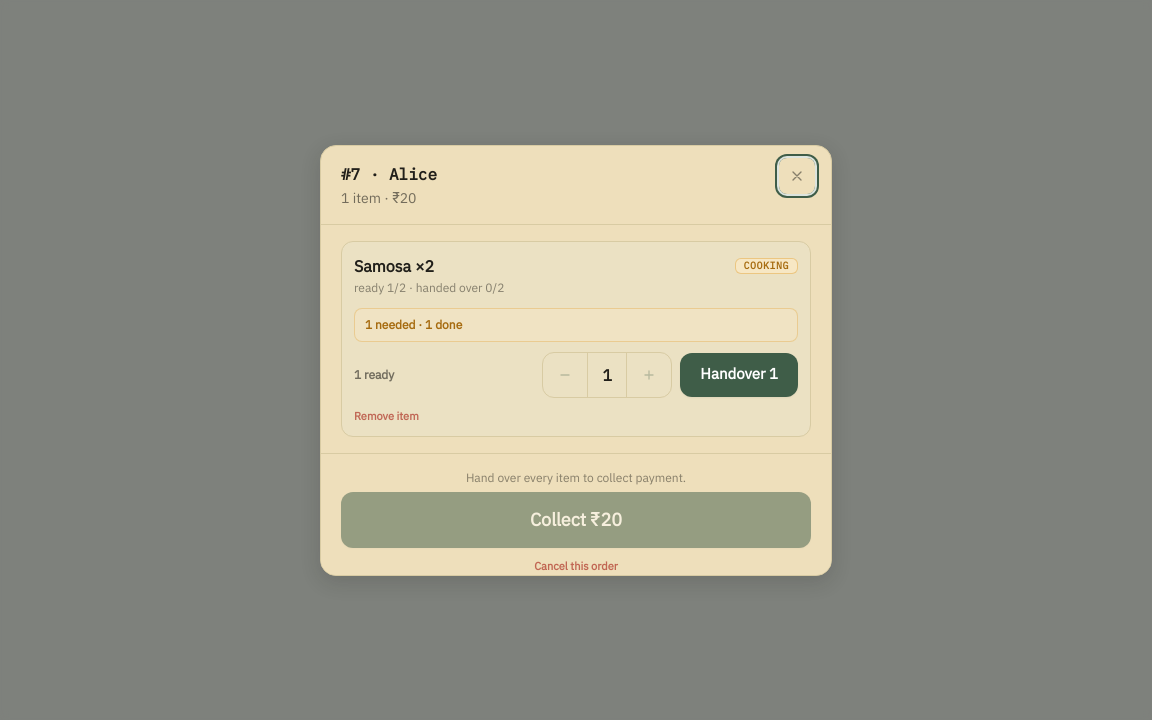
Test: OrderModal remove-item does not flag stock when the removal itself fails (STATUS.md § 9.6 U2) › does not mark the item out of stock when removeOrderItem itself fails
Click the button "Remove item".
click(386, 416)  # box [354,408,419,424]
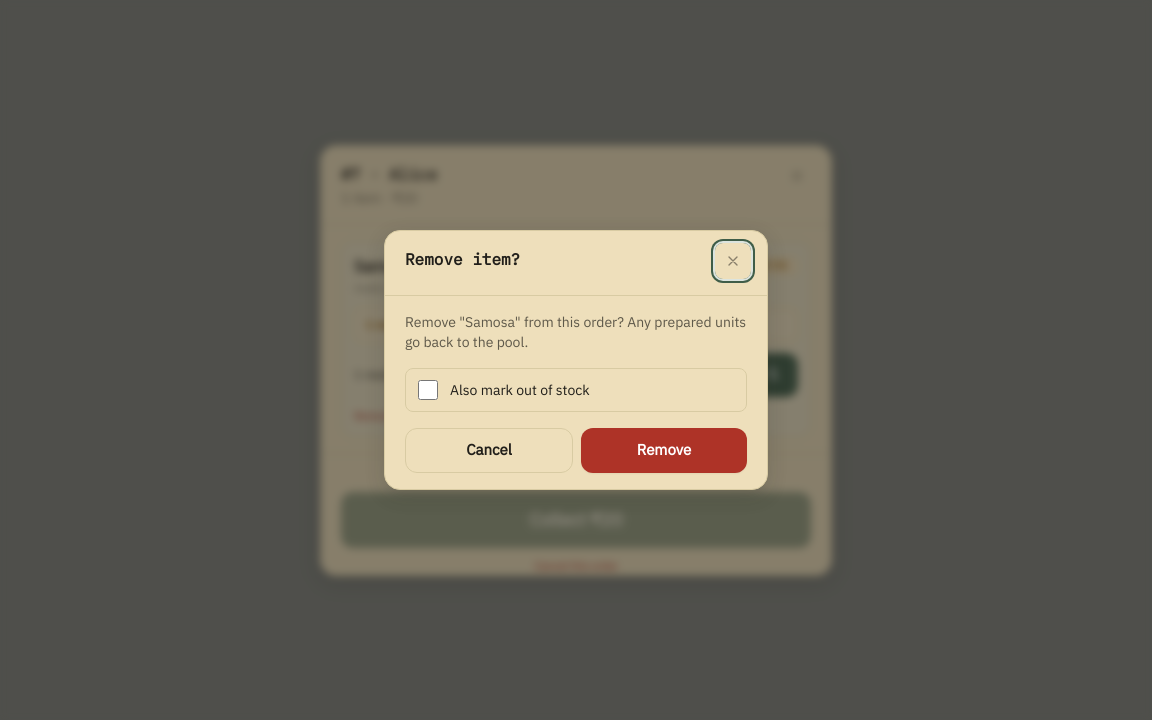
Click the text "Also mark out of stock".
click(520, 390)  # box [450,381,590,399]
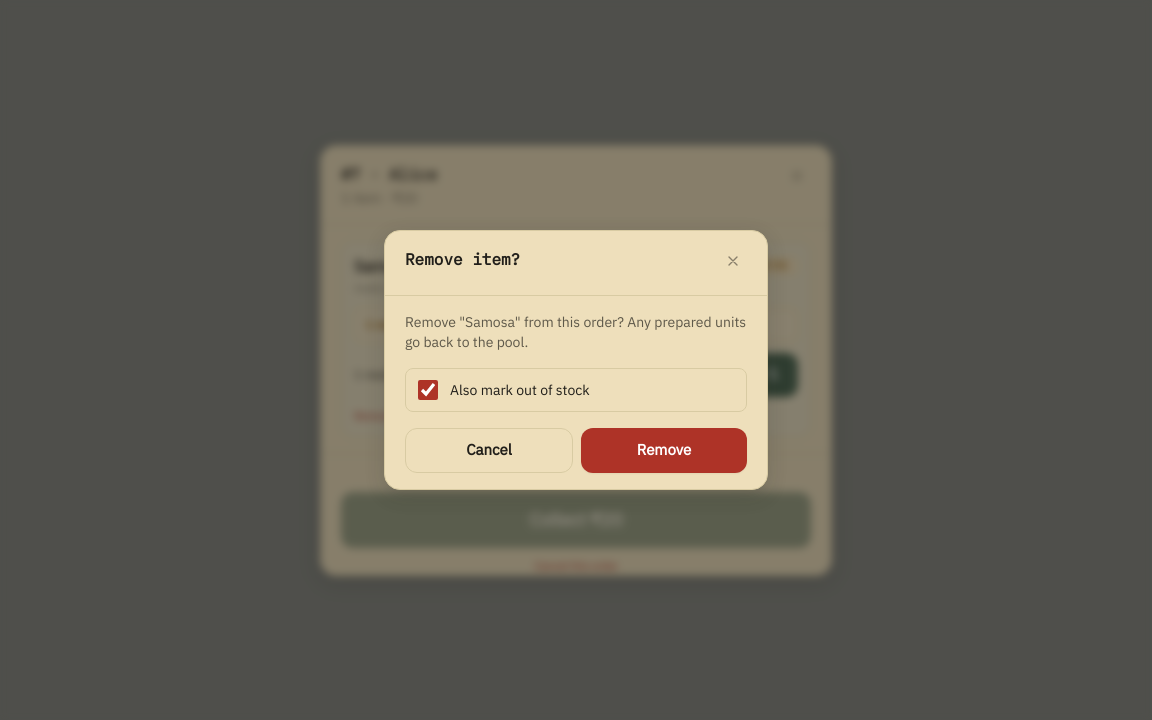
Click the button "Remove".
click(664, 451)  # box [581,428,747,473]
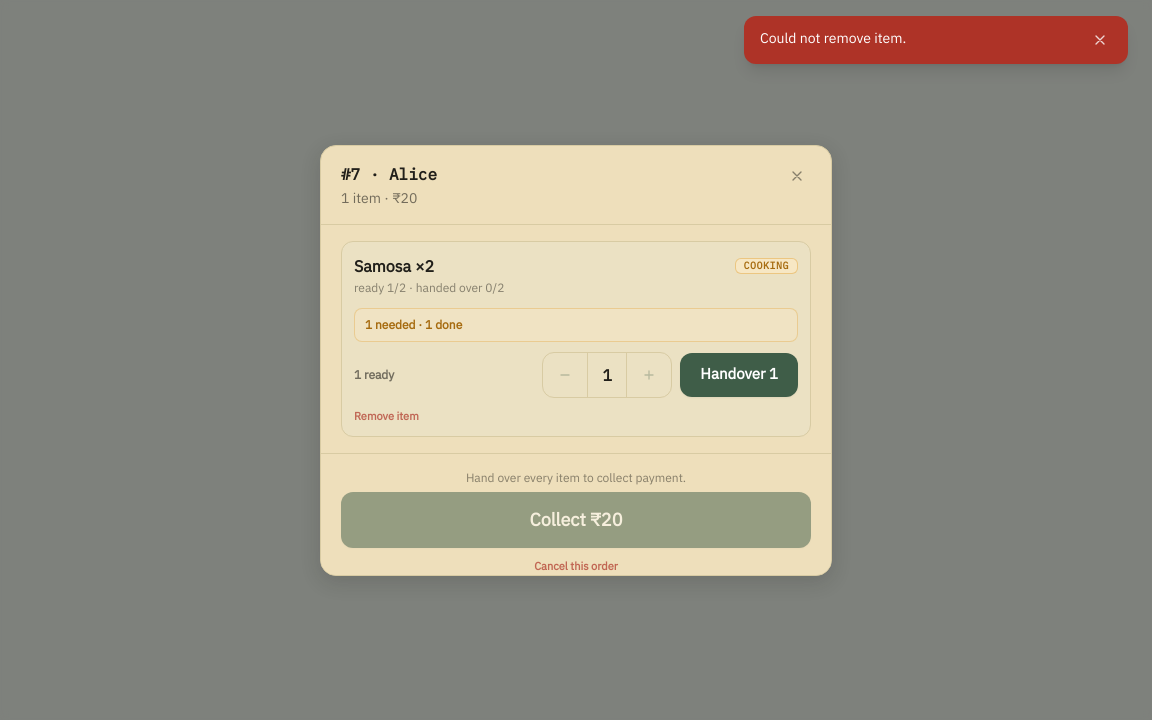
Check: the message "Could not remove item." is shown, box [744,16,1128,64]
